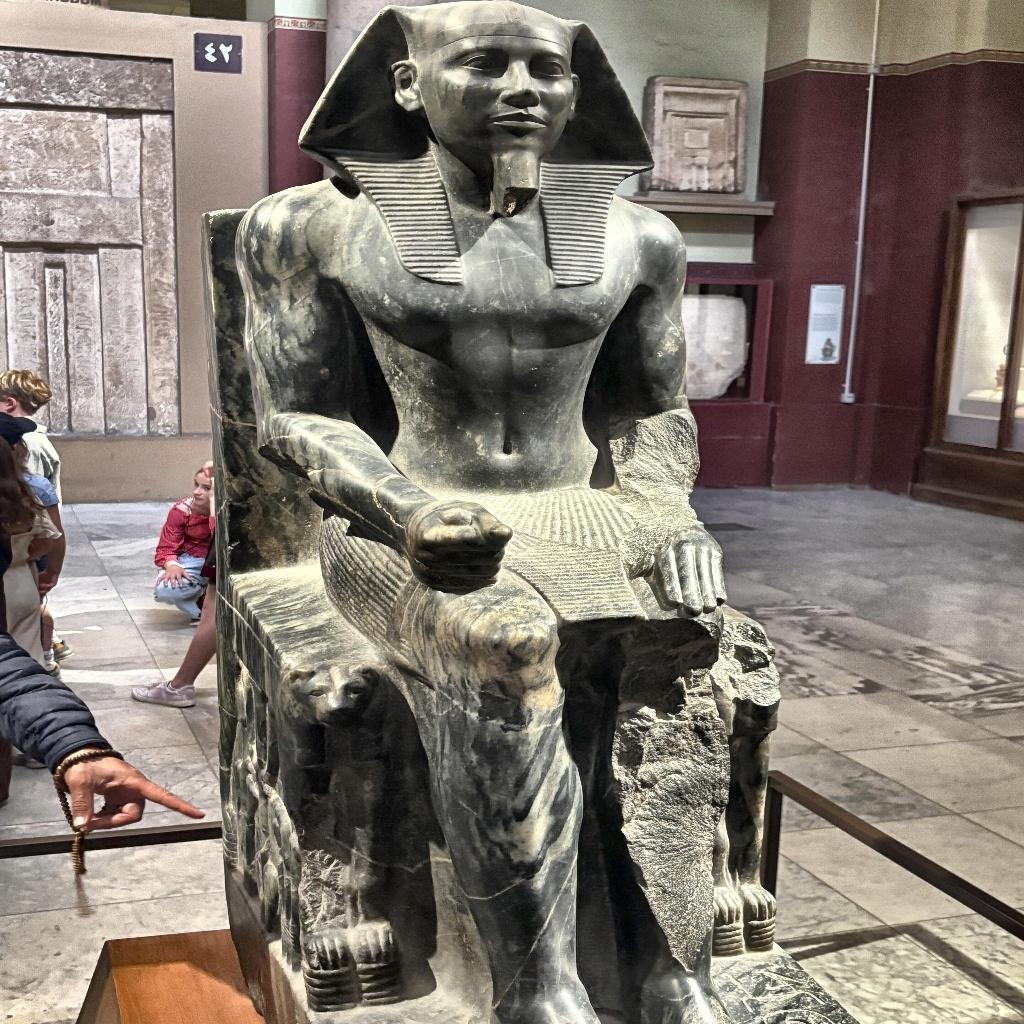Statue of Khafre: (226, 2, 760, 980)
